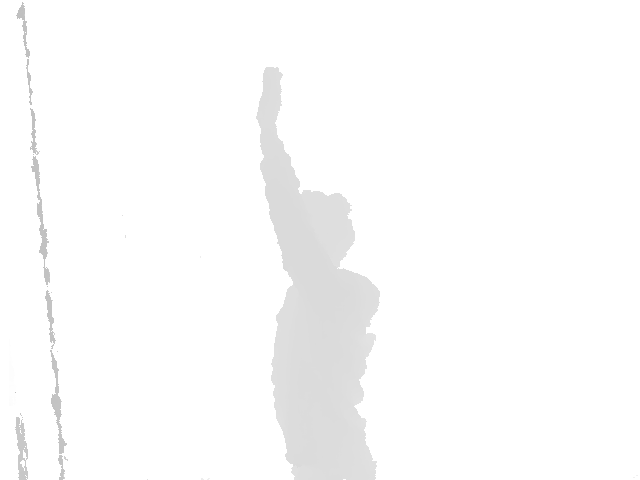hand: (256, 66, 284, 127)
head: (282, 190, 354, 274)
person: (256, 65, 380, 480)
